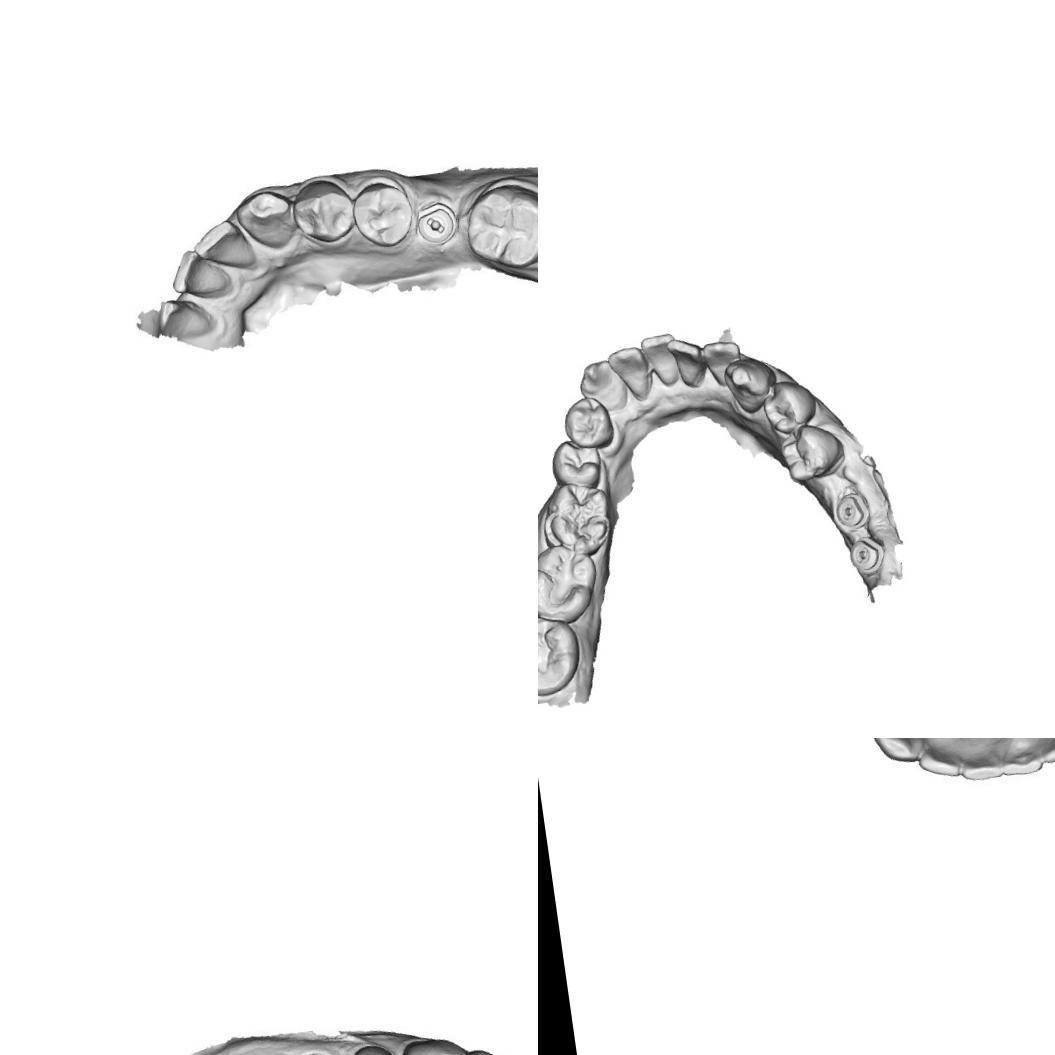canine: (237, 185, 302, 260), (719, 352, 780, 418), (559, 392, 616, 453), (574, 356, 630, 417), (398, 1029, 473, 1055), (871, 738, 937, 766)
implant_minus: (414, 193, 465, 254), (846, 532, 890, 577), (832, 490, 873, 532)
incisor: (166, 244, 240, 310), (198, 218, 260, 276), (604, 342, 654, 405), (664, 333, 709, 392), (912, 738, 972, 782), (638, 330, 681, 390), (700, 336, 746, 390), (955, 738, 1010, 777), (995, 738, 1040, 771), (454, 1040, 530, 1055), (1030, 738, 1055, 767)
molar: (461, 177, 538, 268), (538, 475, 618, 562), (538, 539, 605, 630), (538, 611, 586, 701)
premolar: (290, 171, 361, 246), (775, 417, 849, 486), (353, 175, 420, 248), (757, 376, 821, 439), (547, 433, 606, 492), (335, 1035, 415, 1055)
